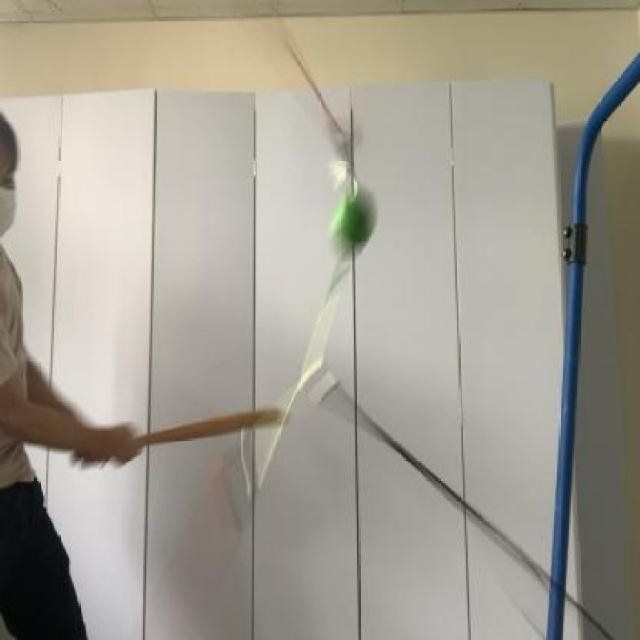baseball: (322, 179, 376, 259)
